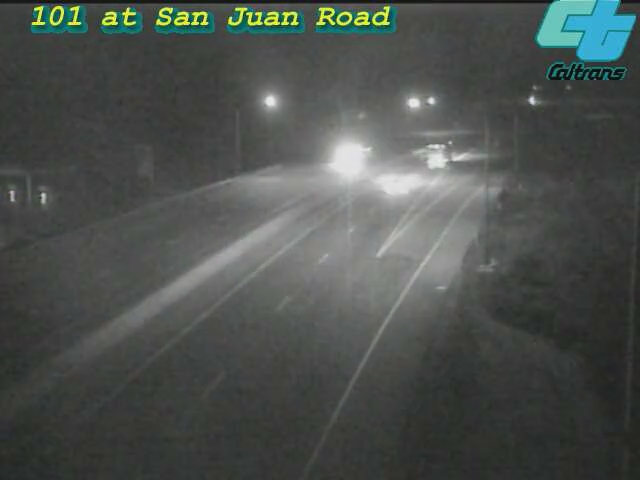vehicle: (308, 117, 388, 197), (398, 116, 478, 196), (358, 147, 438, 227)
